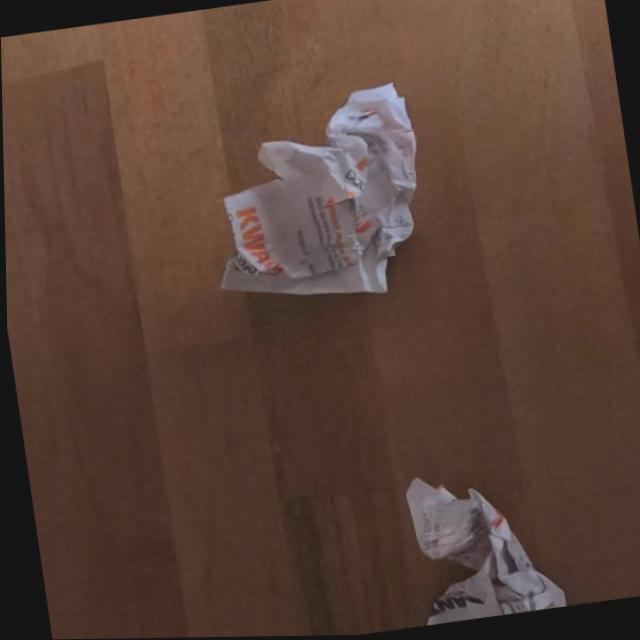Paper: (187, 79, 440, 319), (389, 457, 572, 629)
